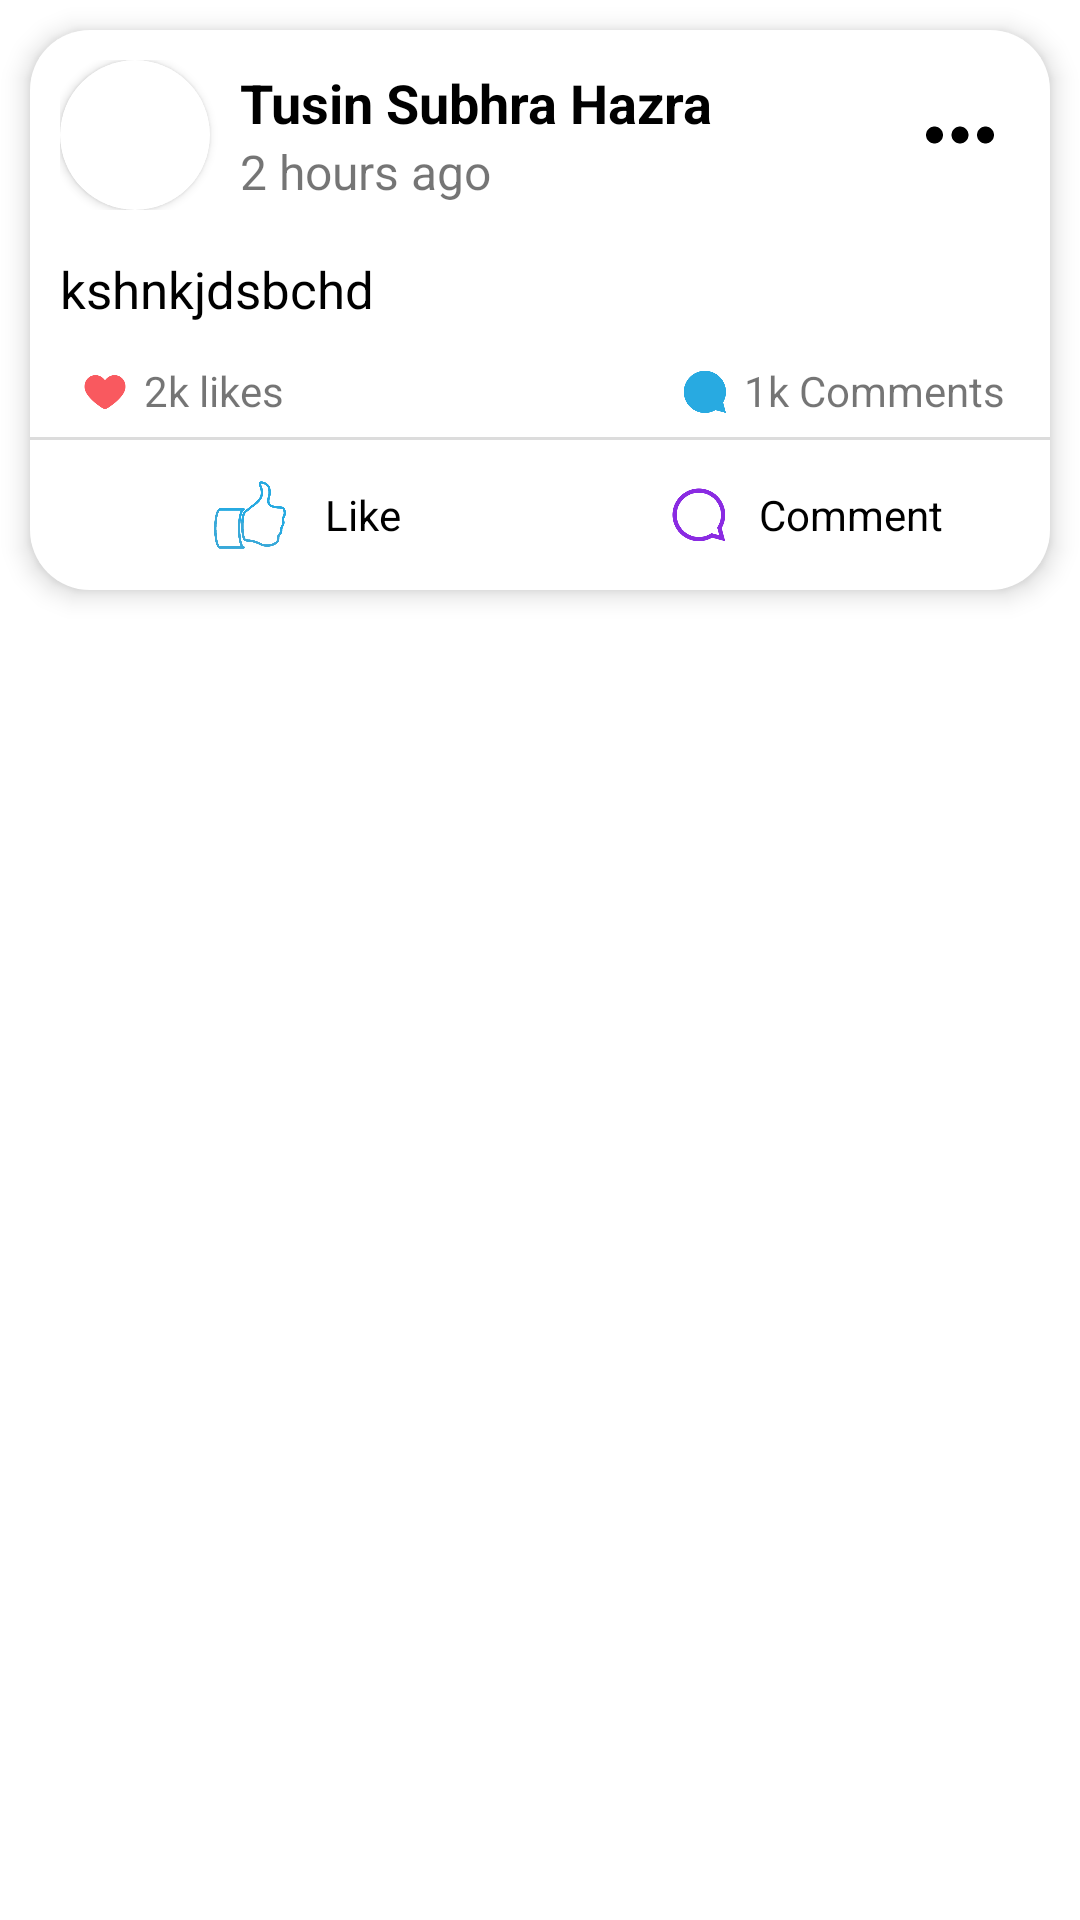

Icon click points for this 1080w x 1920h phone screenshot, format (x,y):
heart: (105,392)
more horiz: (960,135)
